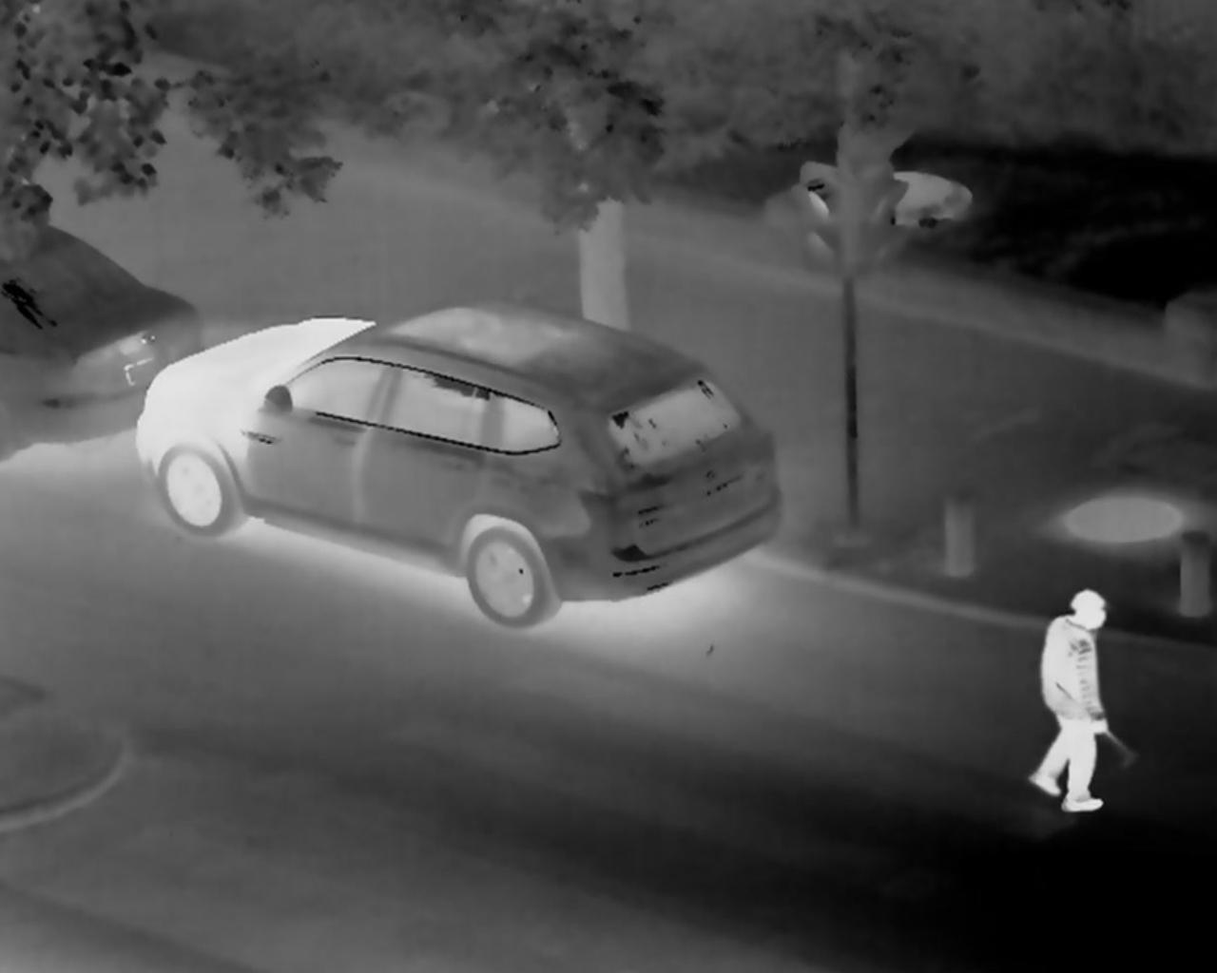person: (1031, 587, 1159, 822)
